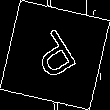P_SE: (26, 24, 84, 86)
